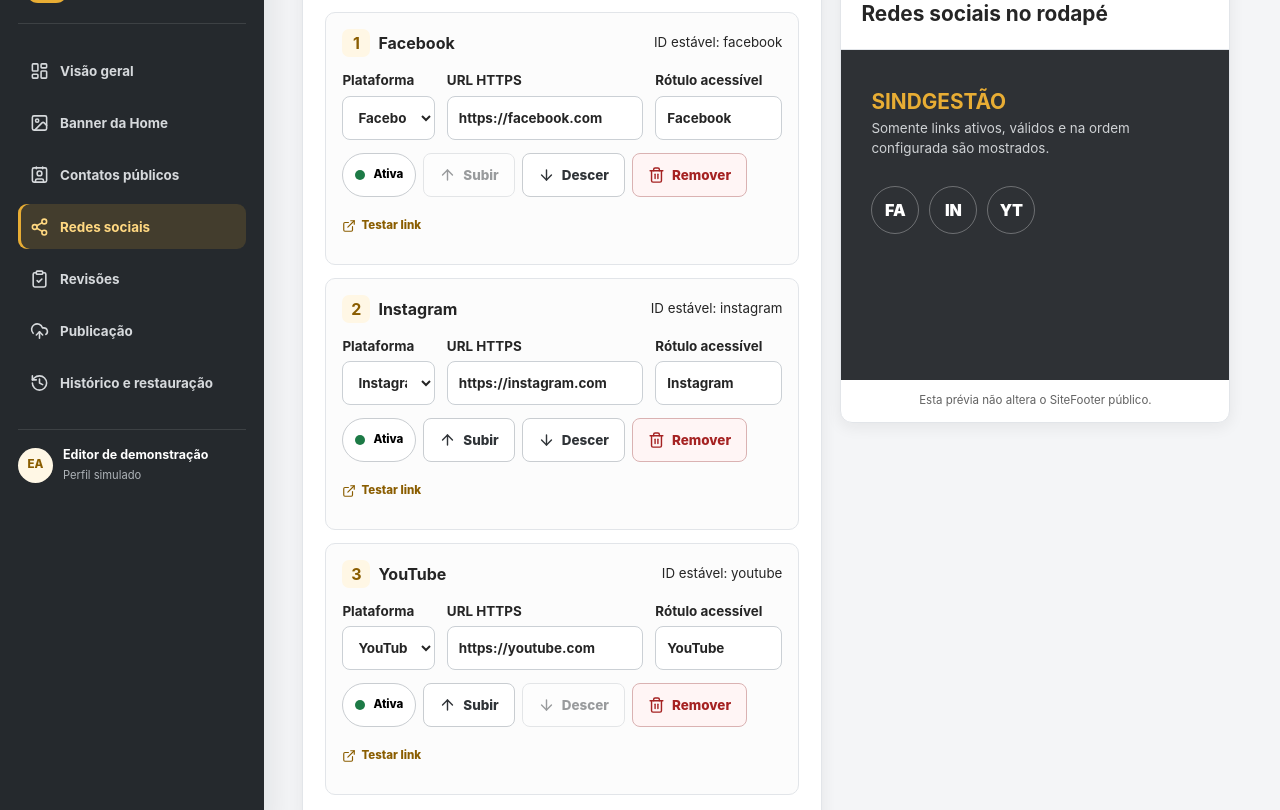
F2.2B social editor › rejects a duplicate platform including inactive items
The width and height of the screenshot is (1280, 810).
(page scrolled)
Select "Facebook" in the 2nd dropdown labelled "Plataforma" at (389, 383), box [342,361,435,405]
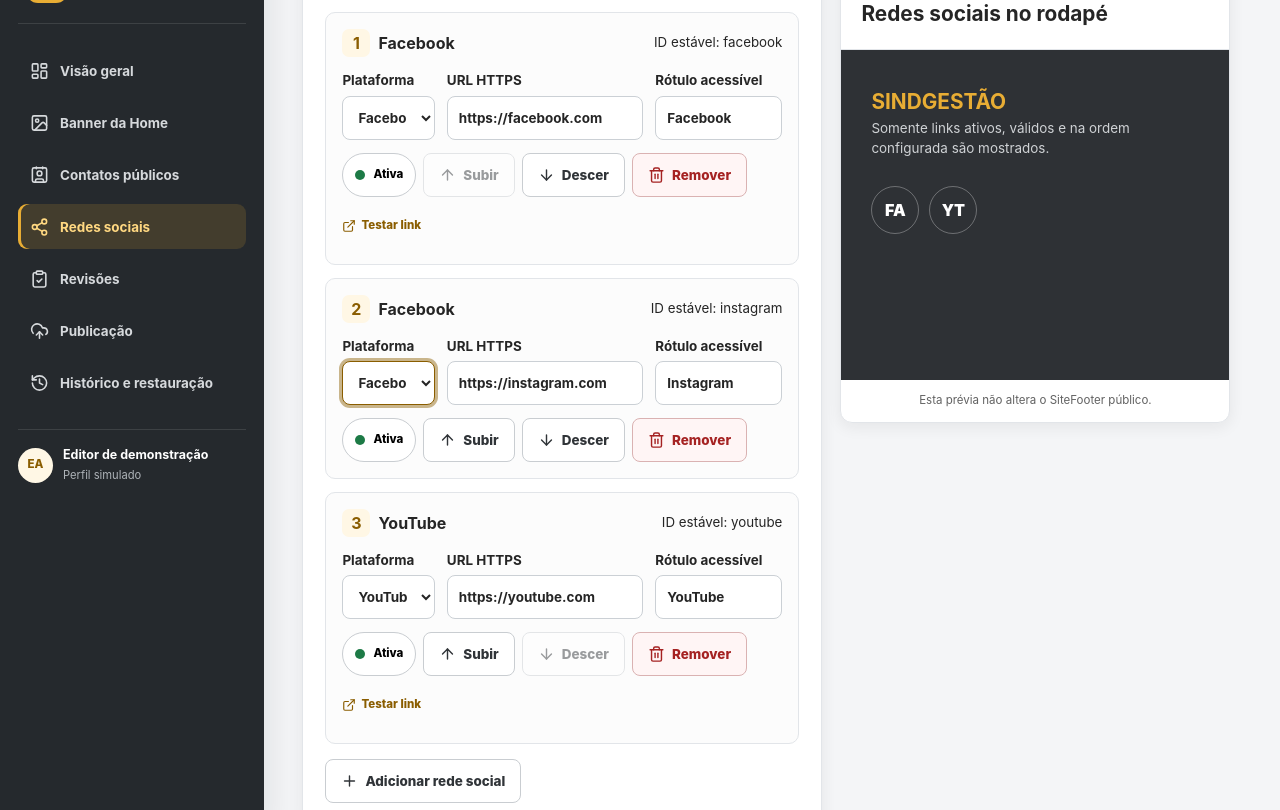
Click the switch named "Inativar Facebook" at (379, 440), box [342,418,416,462]
(page scrolled)
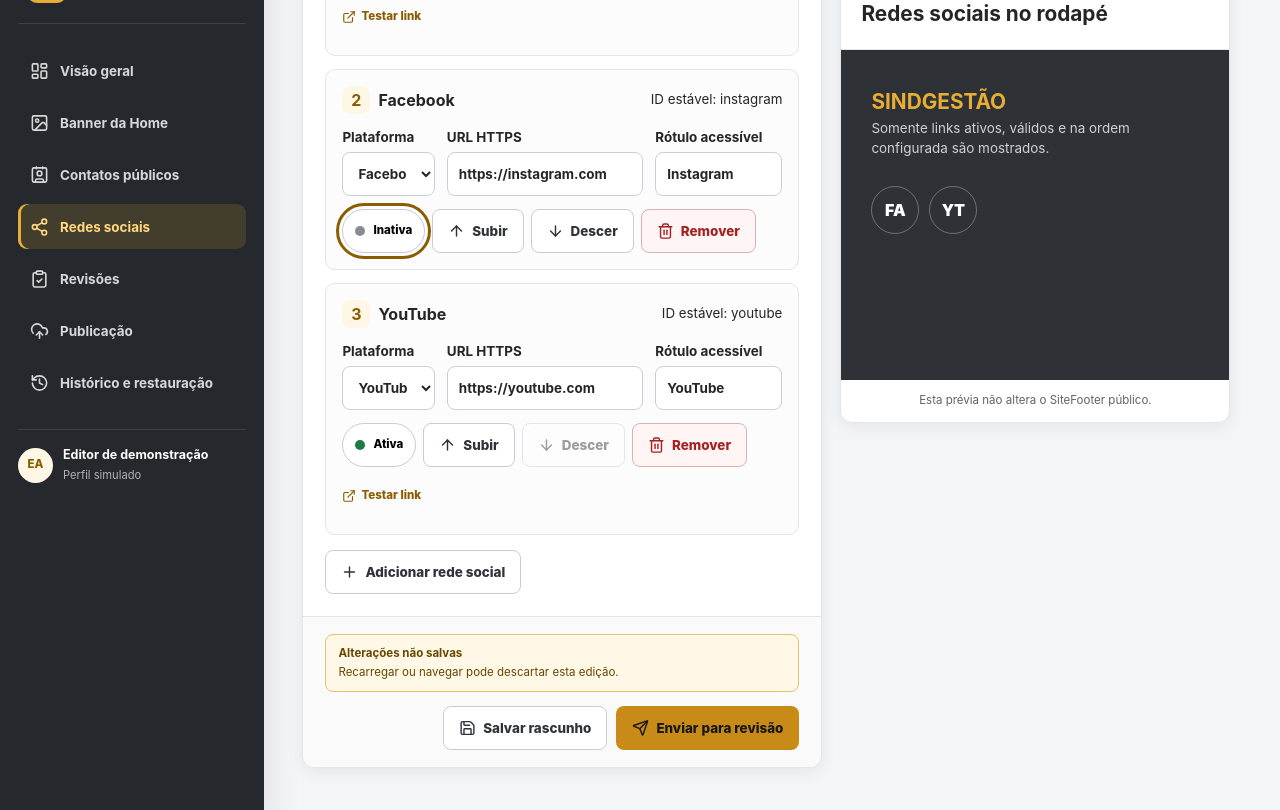
Click the button "Salvar rascunho" at (525, 728), box [443,706,607,750]
(page scrolled)
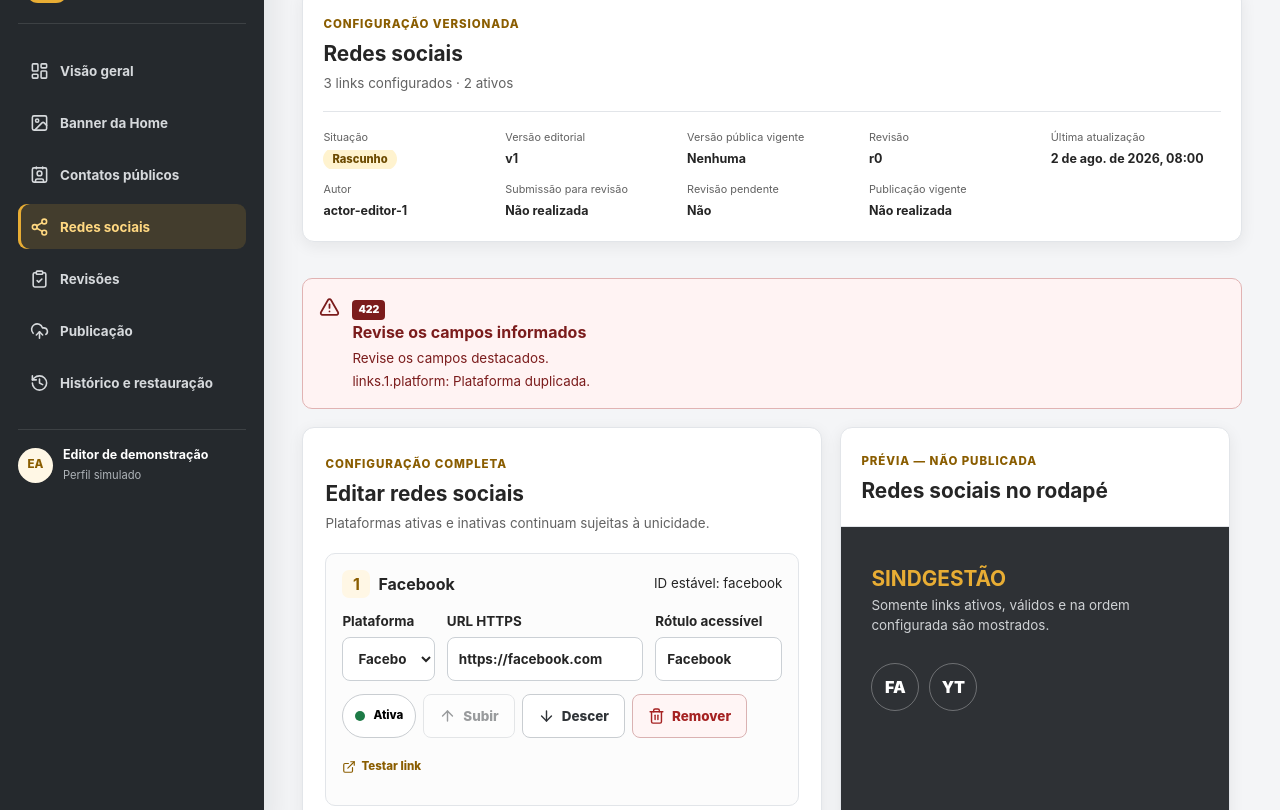
Result: the text "links.1.platform: Plataforma duplicada." is shown at [352,372,590,392]
